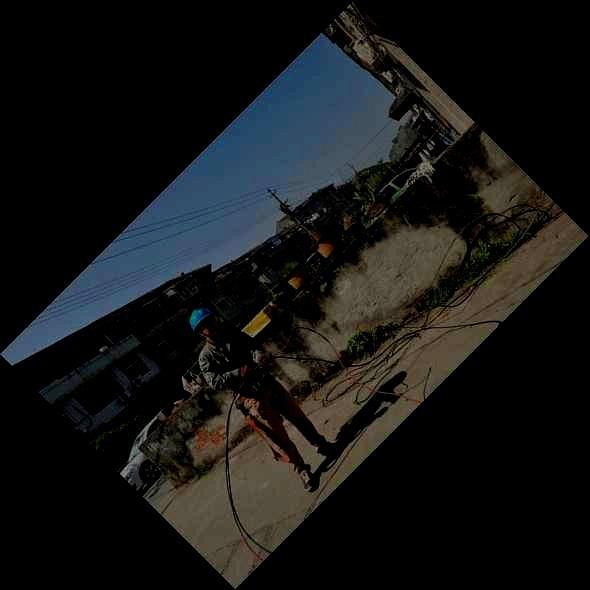helmet: (189, 308, 219, 341)
